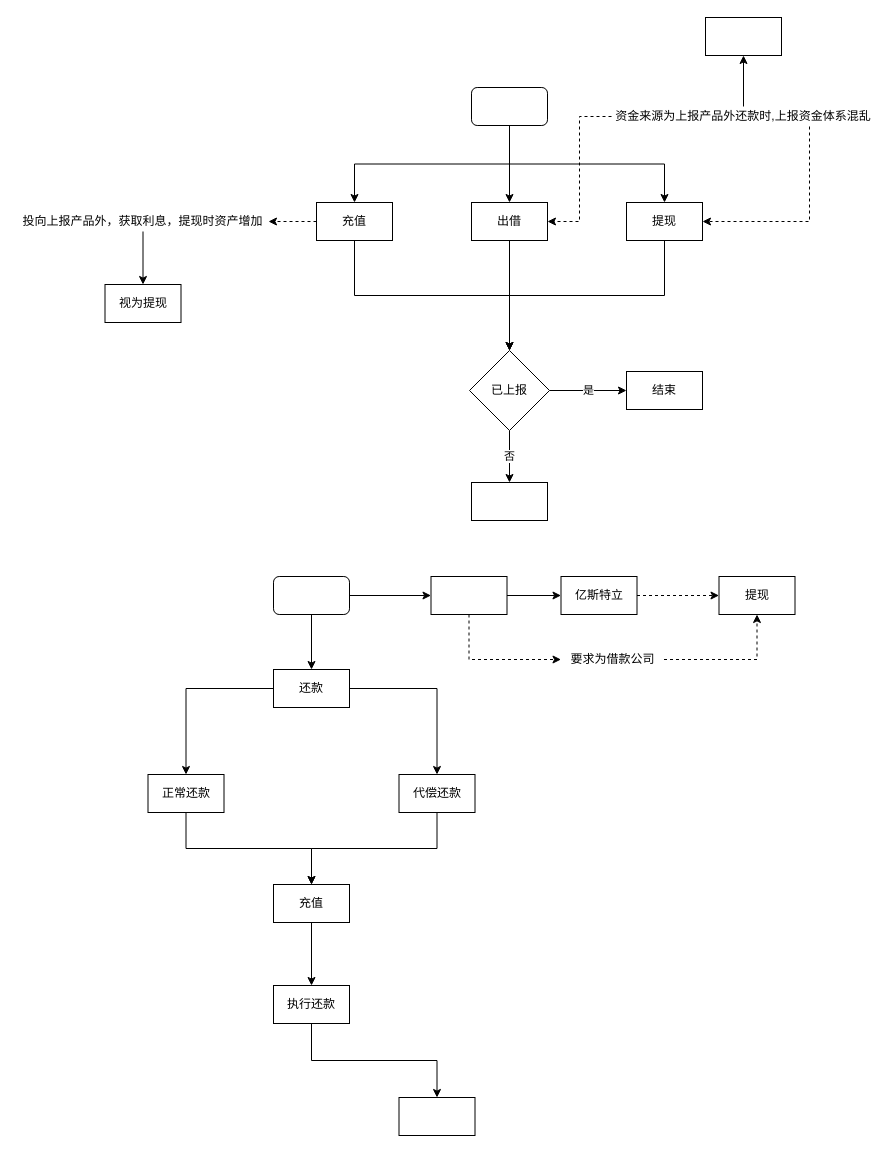
Image size: 892x1153. Some labels were removed from this diagram. Each missing label, with the centre of its shape:
"上报用户" belongs at (509,501).
"放款" belongs at (468,595).
"新三派" belongs at (311,595).
"用户" belongs at (509,106).
"线下还代偿" belongs at (436,1116).
"视为充值" belongs at (743,36).
